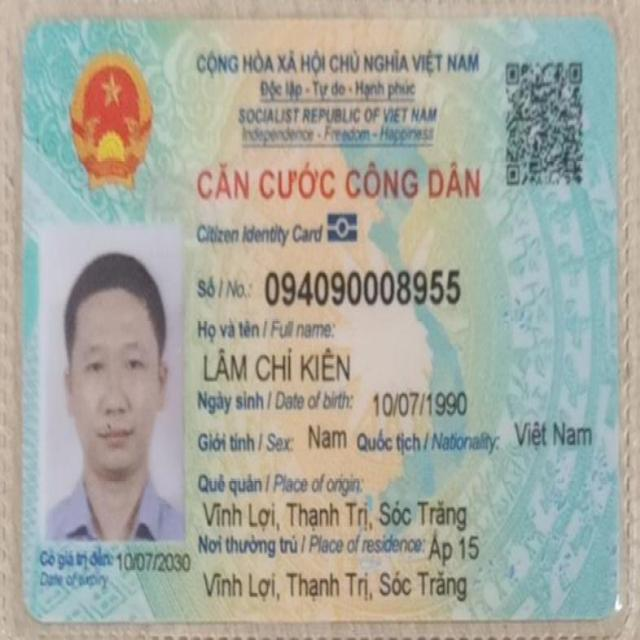current_place: (198, 561, 470, 609), (425, 529, 486, 567)
dob: (371, 386, 468, 420)
expire_date: (116, 550, 195, 580)
gender: (306, 420, 350, 455)
id: (263, 269, 463, 310)
name: (200, 344, 354, 386)
nationality: (511, 416, 595, 452)
origin_place: (199, 494, 469, 535)
qr: (501, 54, 589, 194)
